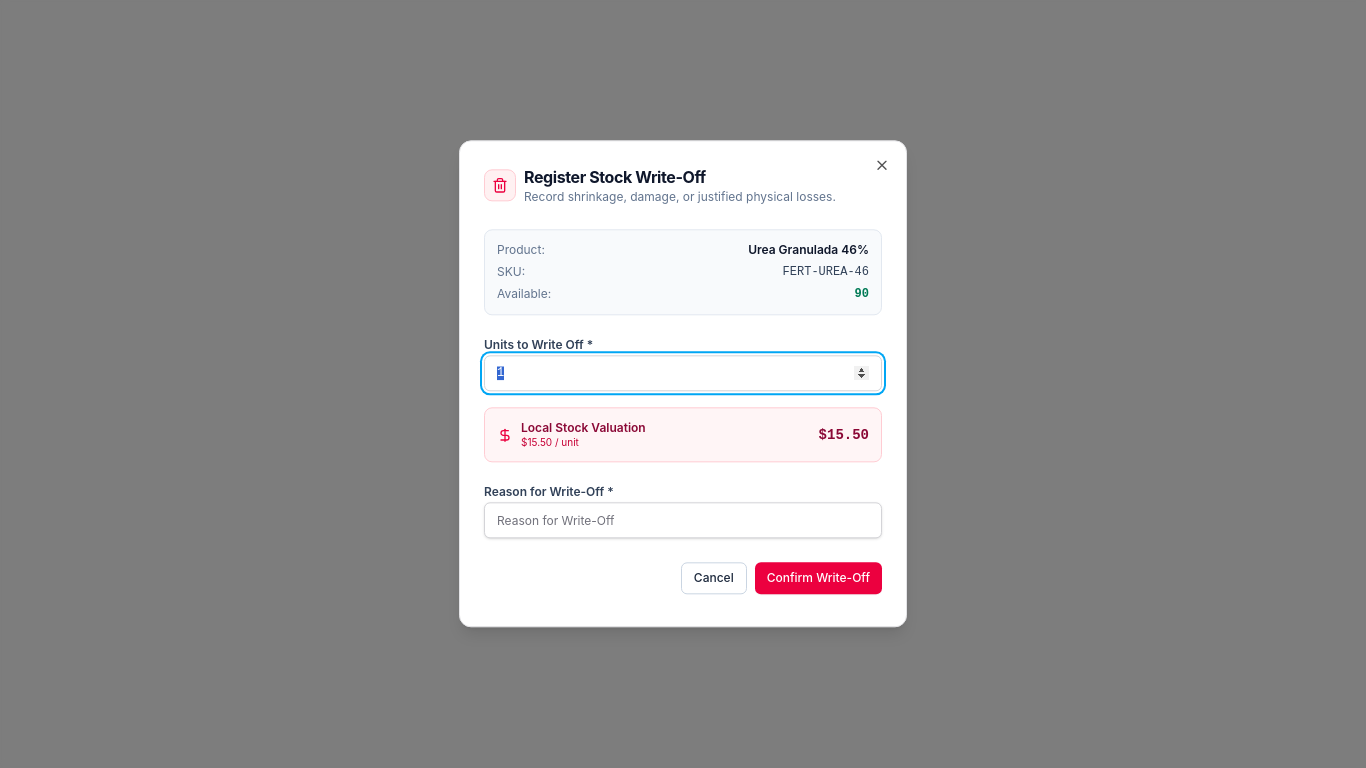
Test: Stock Management Component Tests › allows OPERATOR to register write-off via WriteOffDialog
Check: the heading "Register Stock Write-Off" is shown, box [524,167,706,187]
Check: the text "$15.50" is shown, box [819,425,869,445]
Replace the text in the number field labelled "Units to Write Off *" with "5": [683, 373] box [484,355,882,391]
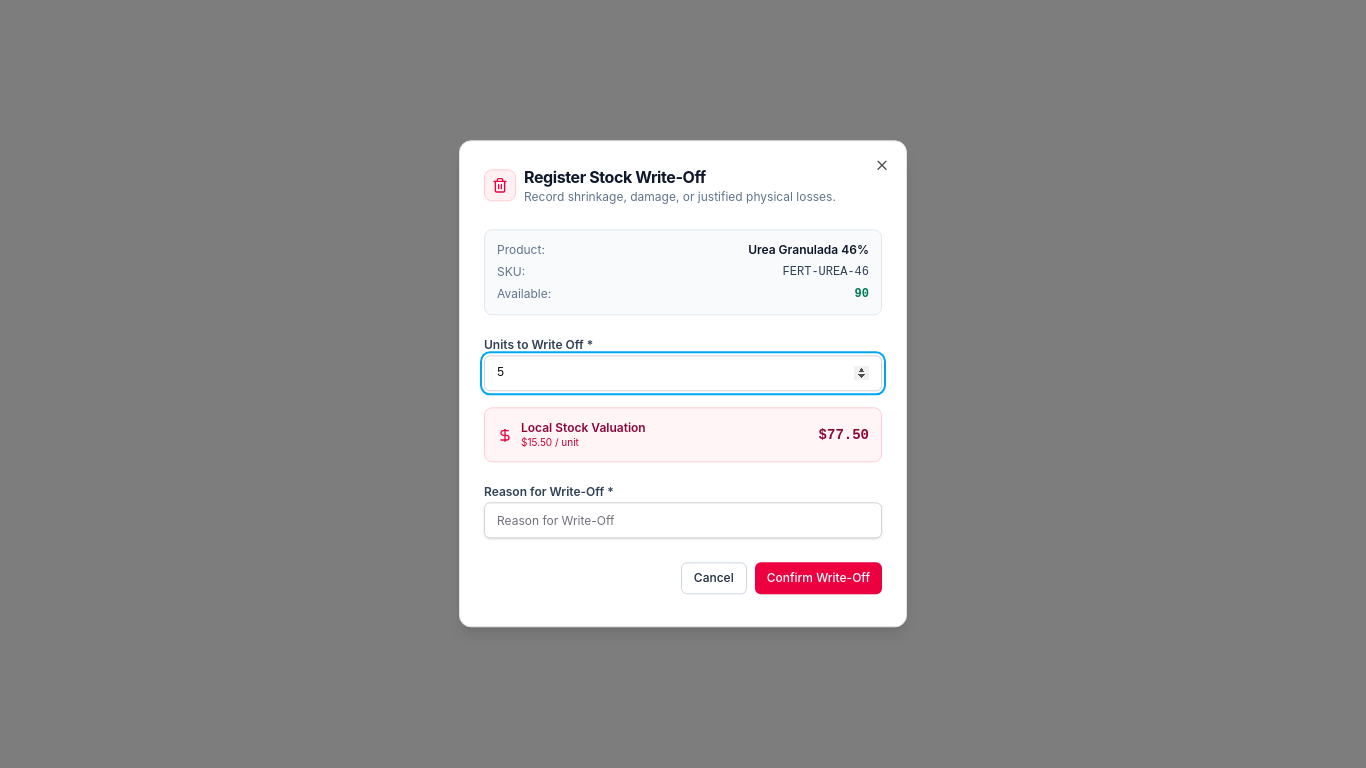
Check: the text "$77.50" is shown, box [819,425,869,445]
In the field labelled "Reason for Write-Off *": [683, 521] box [484,503,882,539], type "Damaged during unloading"
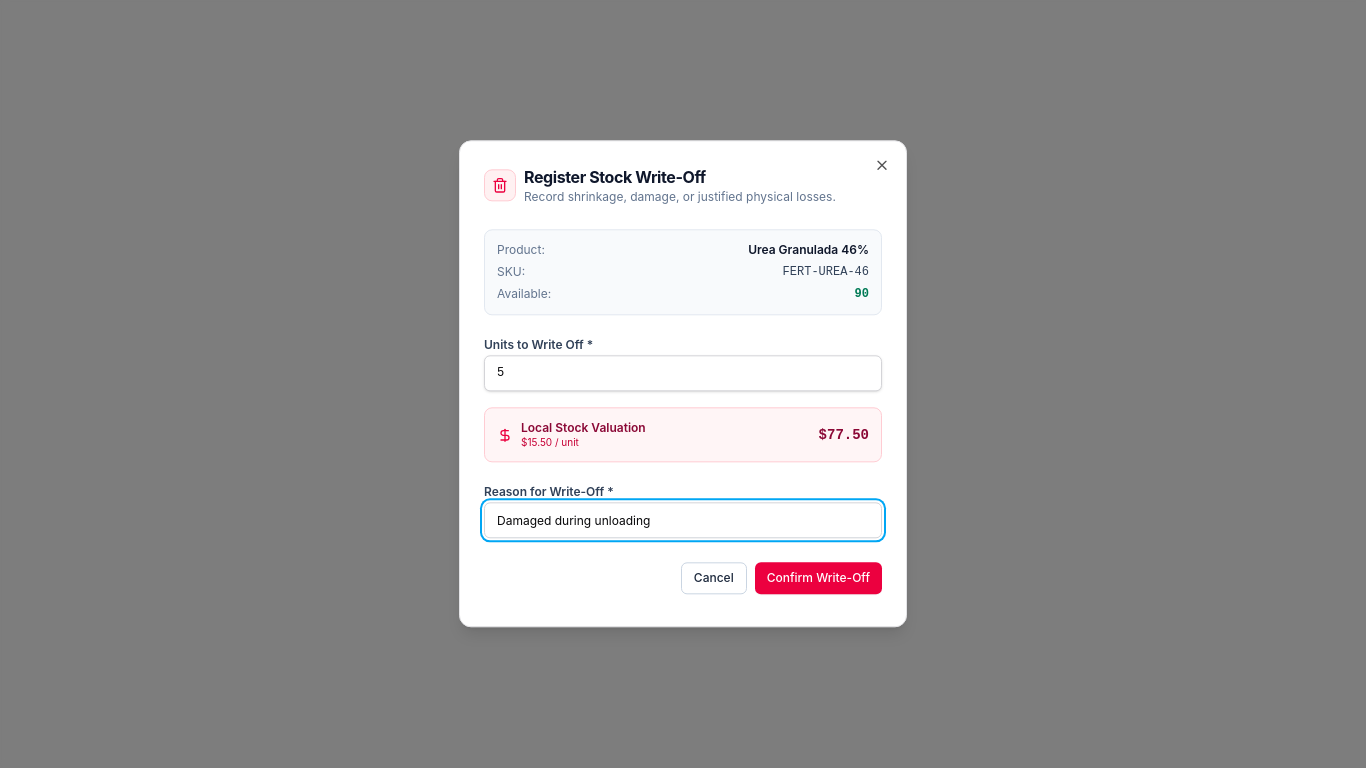
Click the button "Confirm Write-Off": [818, 579] box [755,563,882,595]
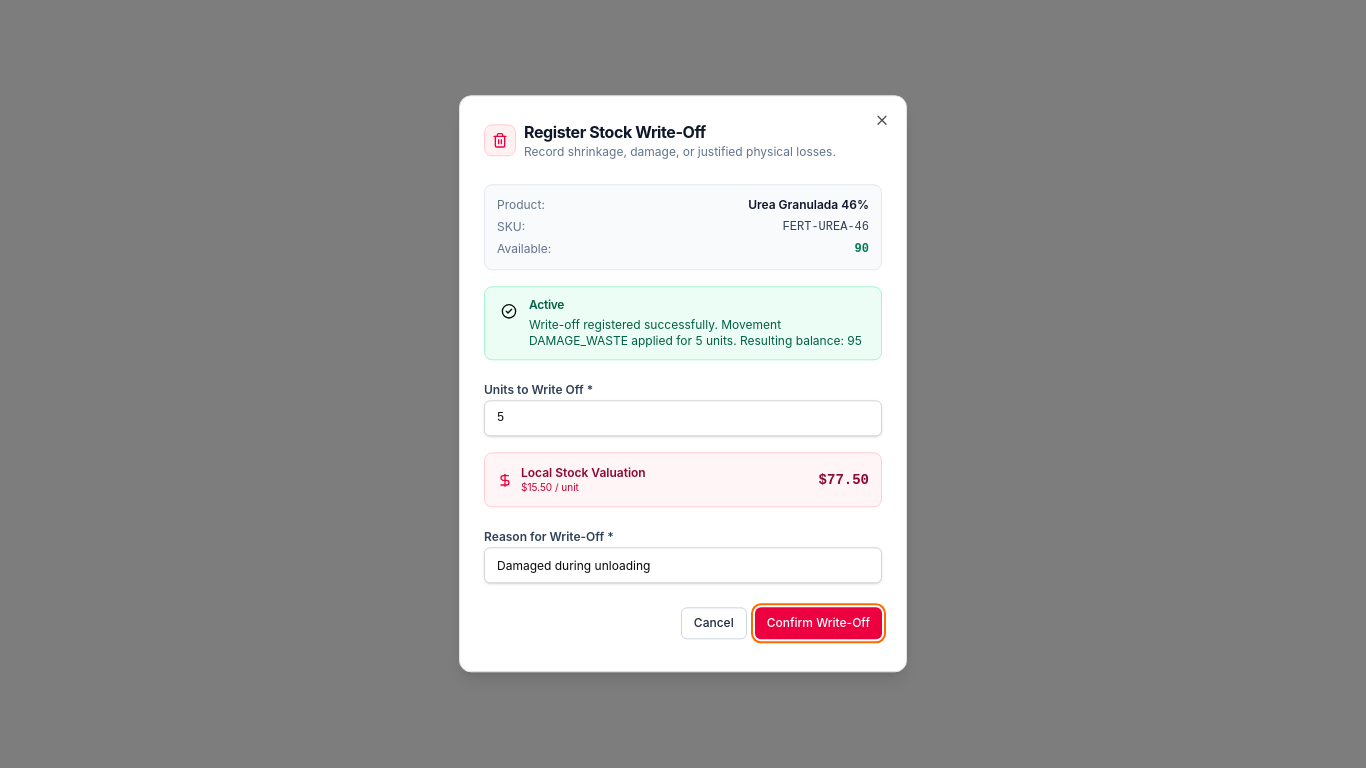
Check: the text "Write-off registered successfully" is shown, box [529,317,862,348]
